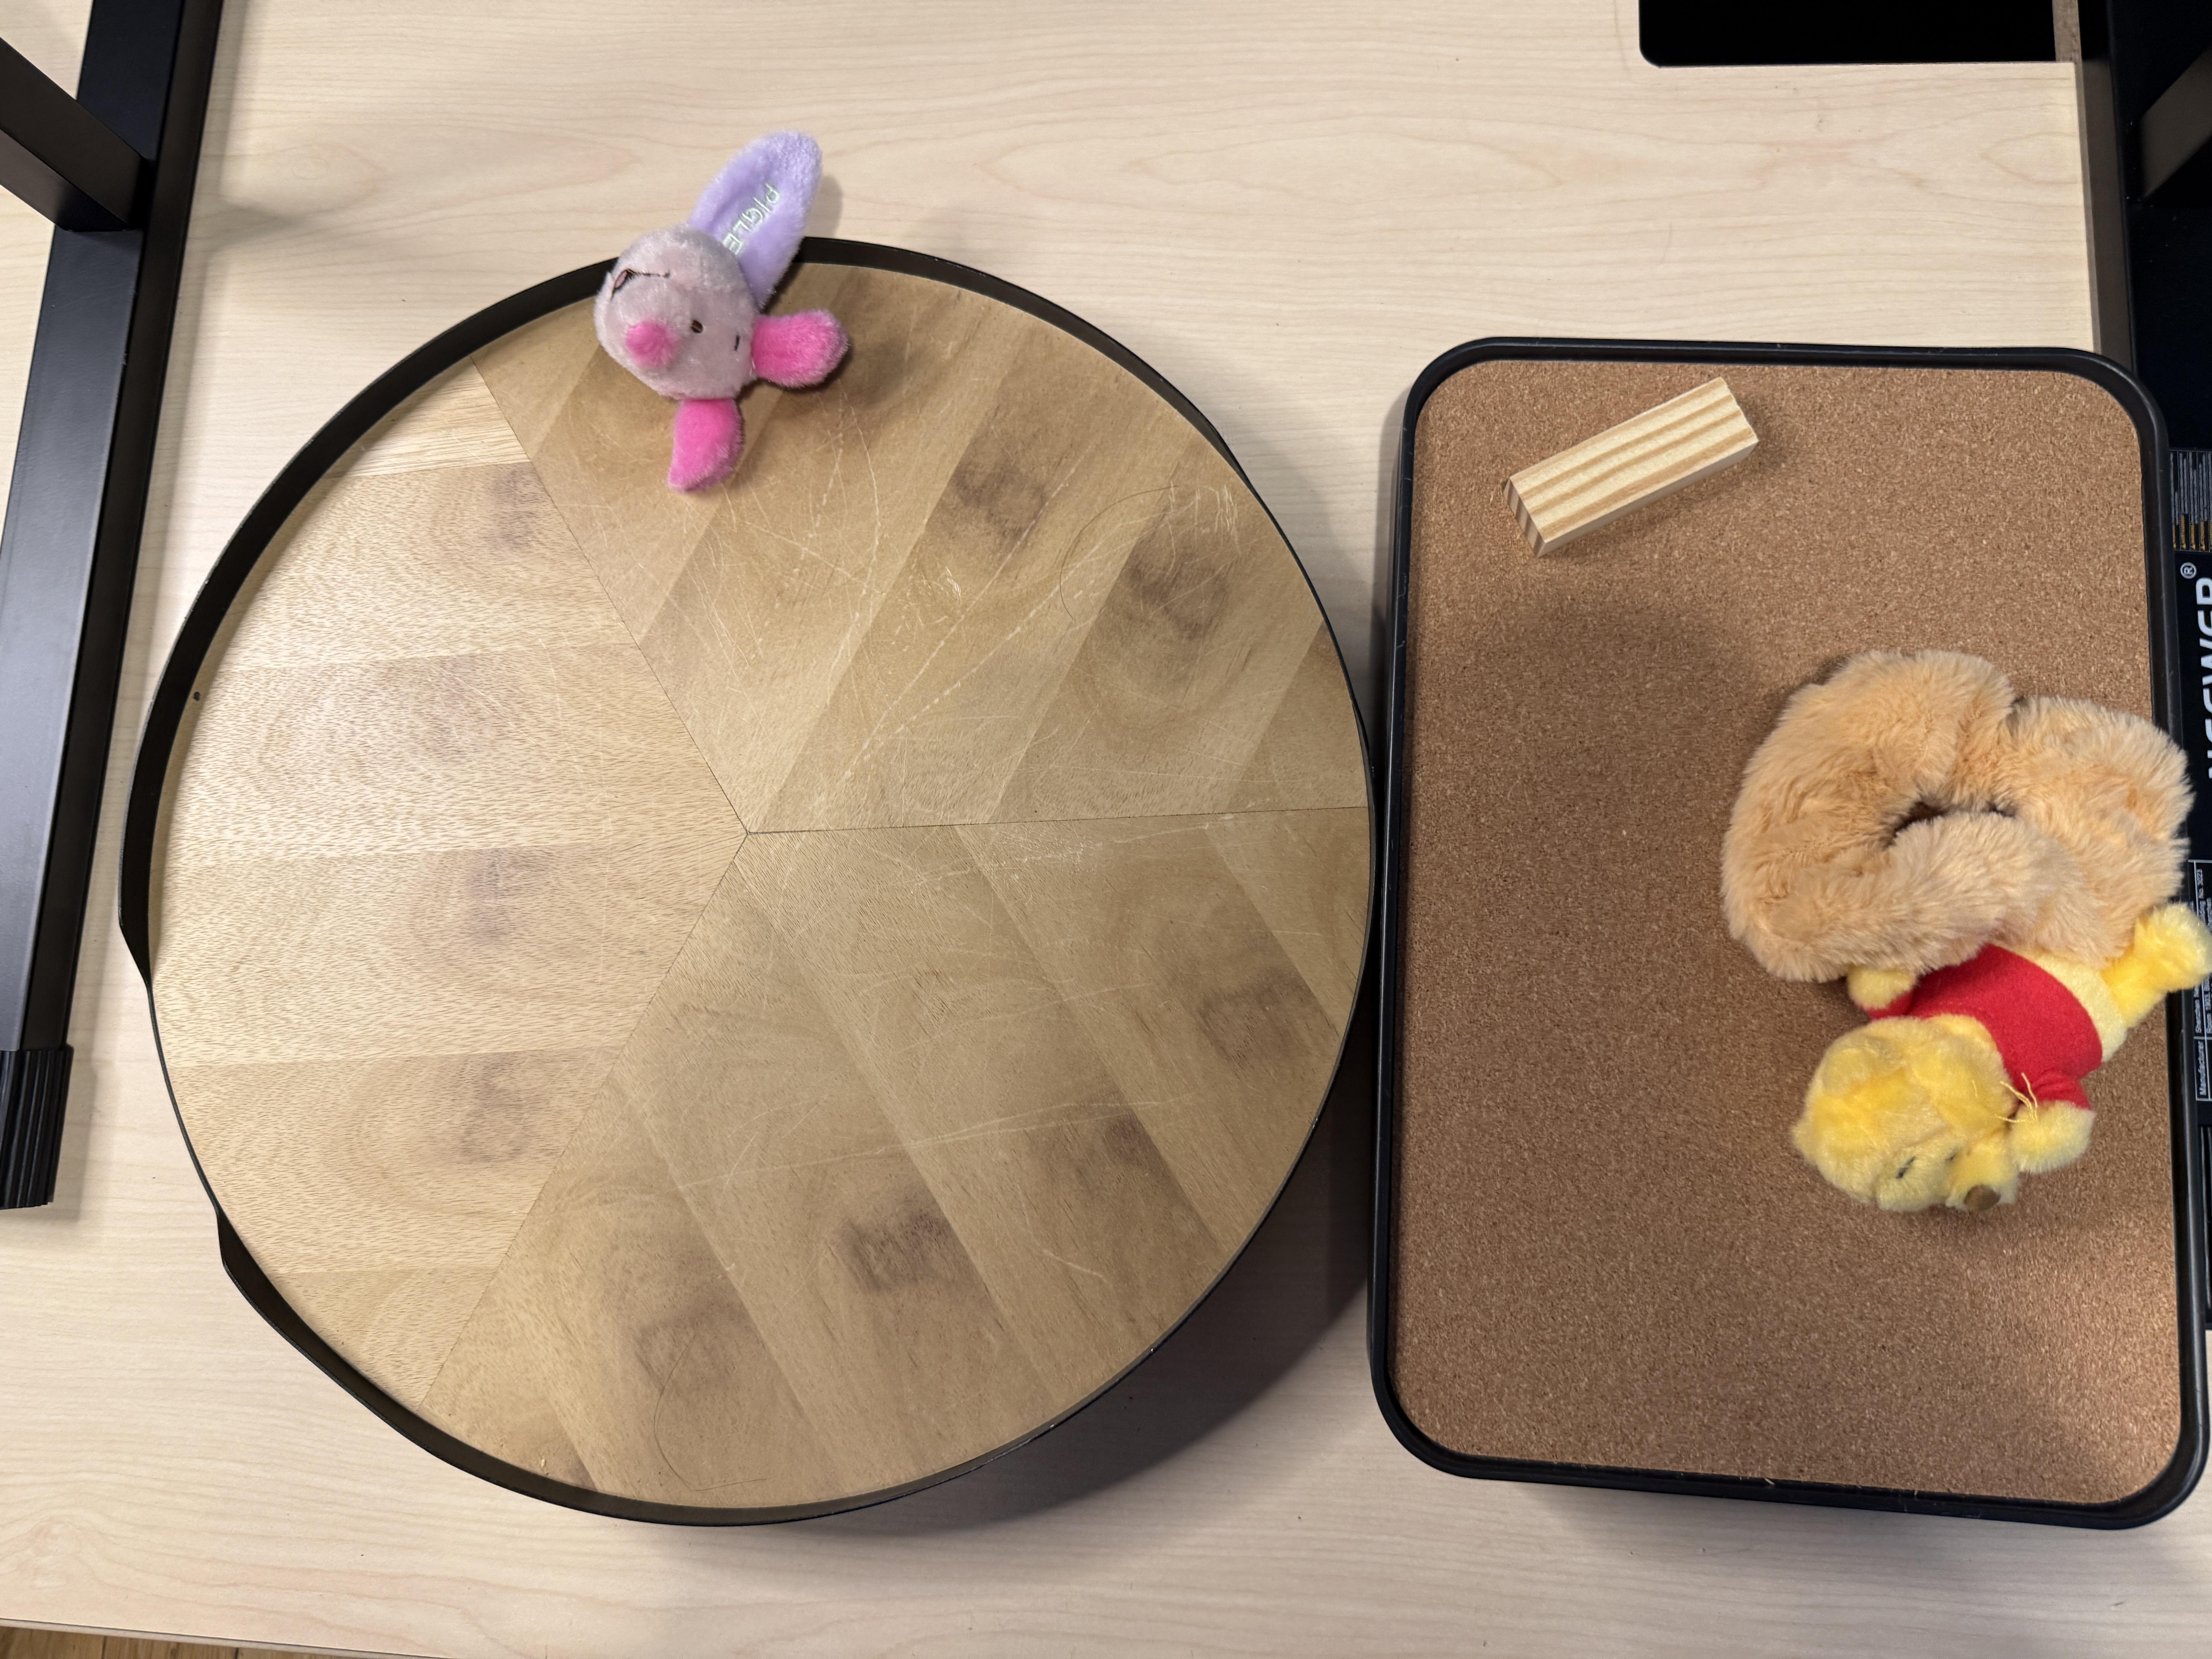block: (1503, 378, 1763, 551)
doll: (1723, 647, 2210, 1218), (592, 132, 850, 488)
